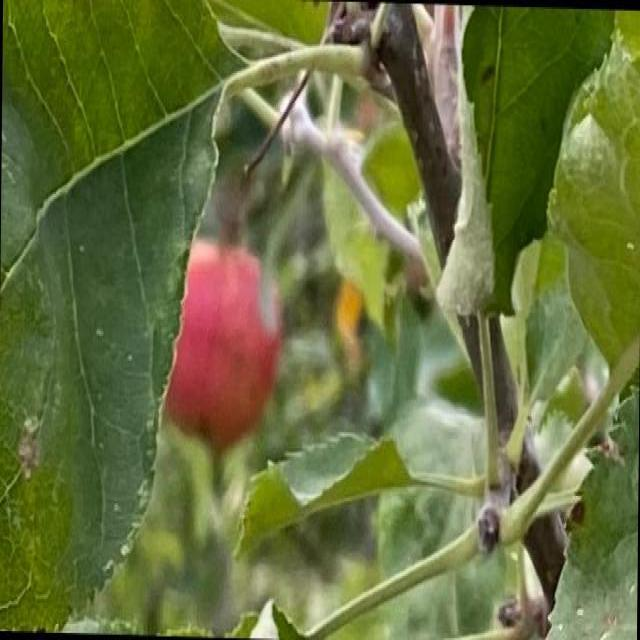Apple: (164, 241, 282, 443)
